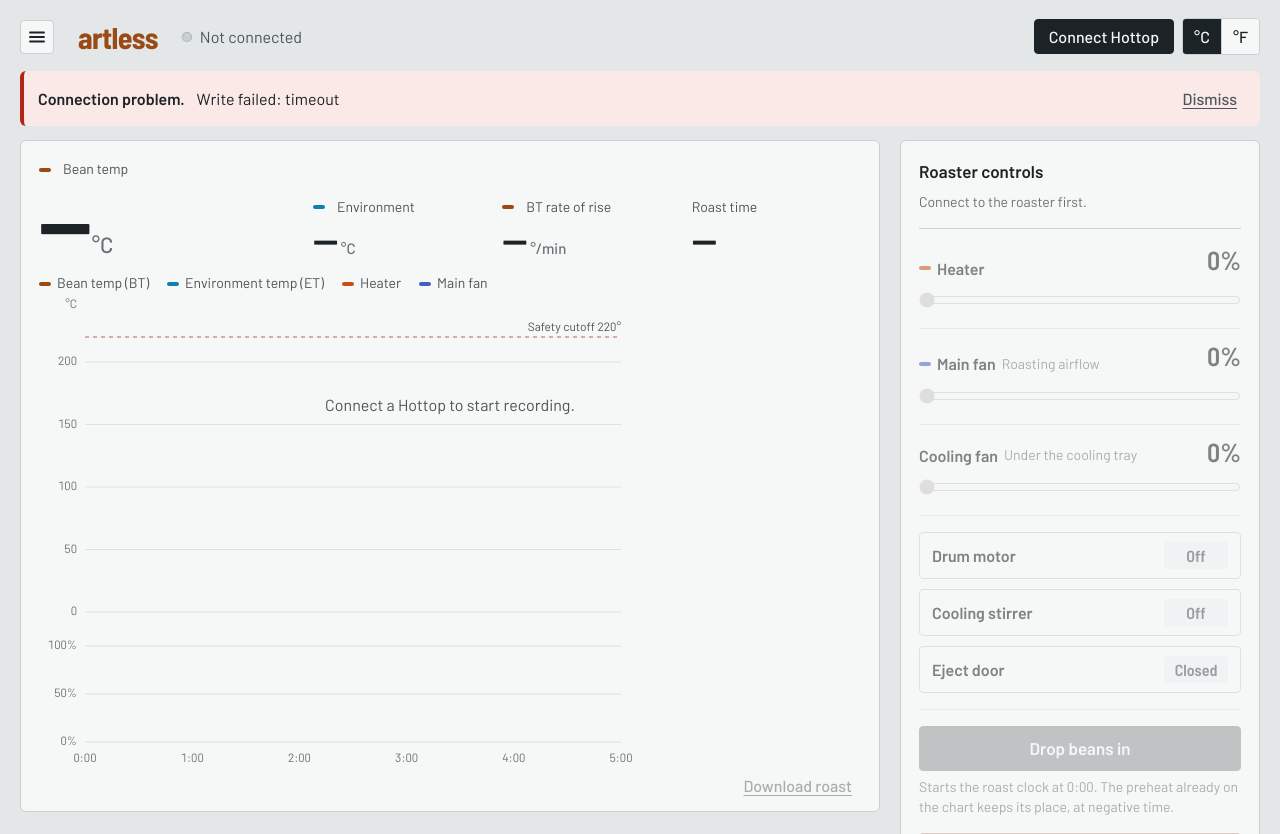
Test: banners › shows a connection problem until dismissed
Check: the message shows "Write failed: timeout", box [197,89,340,108]
Click the button "Dismiss" at (1210, 99), box [1174,81,1246,116]
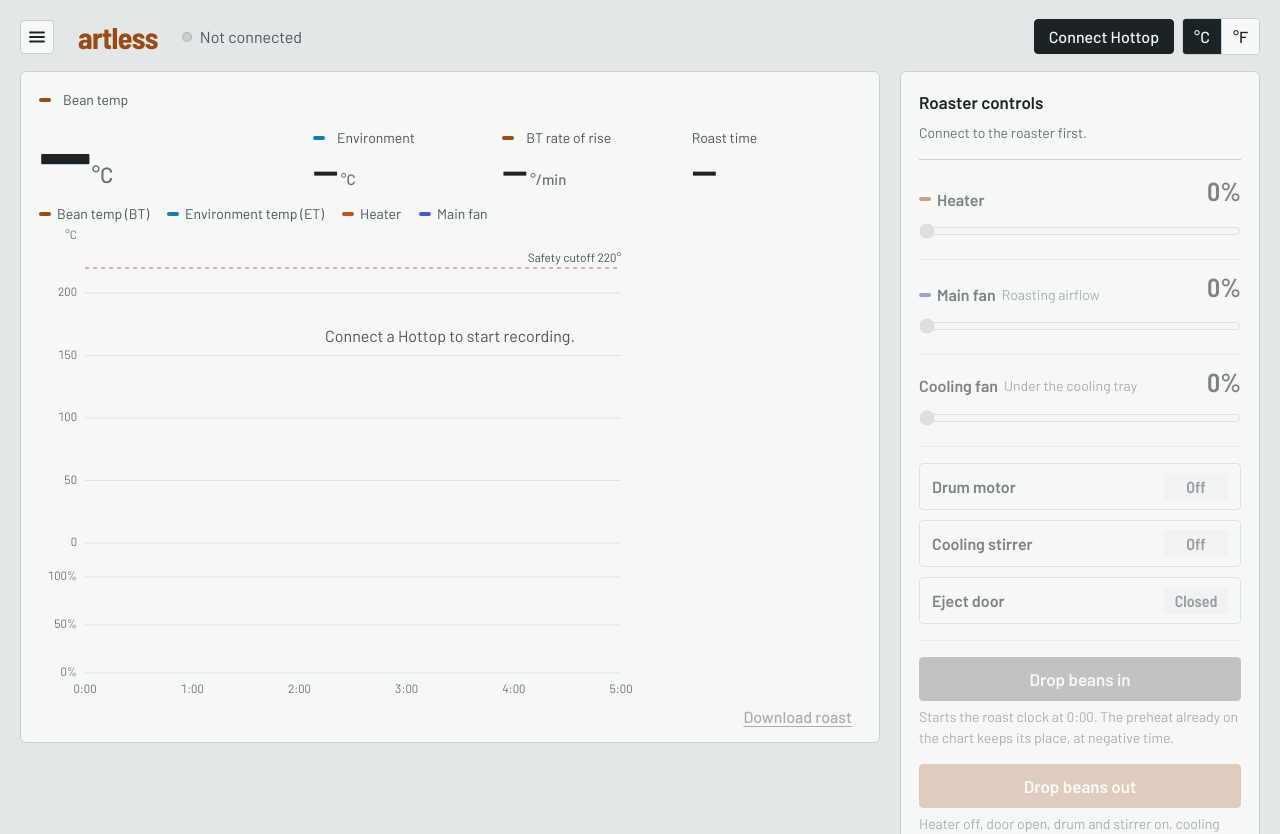
Check: the message "Connection problem. Write failed: timeout Dismiss" is gone
